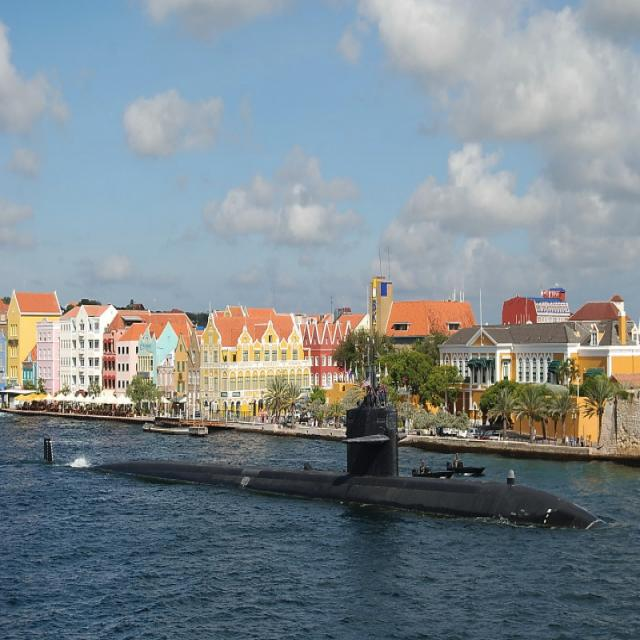submarine: (42, 401, 618, 534)
